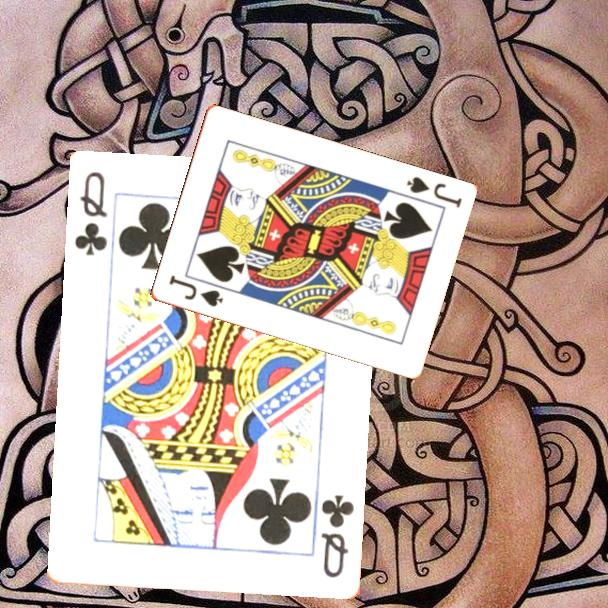c12: (71, 169, 111, 259), (318, 492, 357, 581)
s11: (165, 272, 226, 310), (403, 173, 464, 211)
